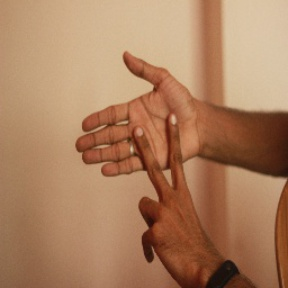N: (71, 50, 219, 233)
